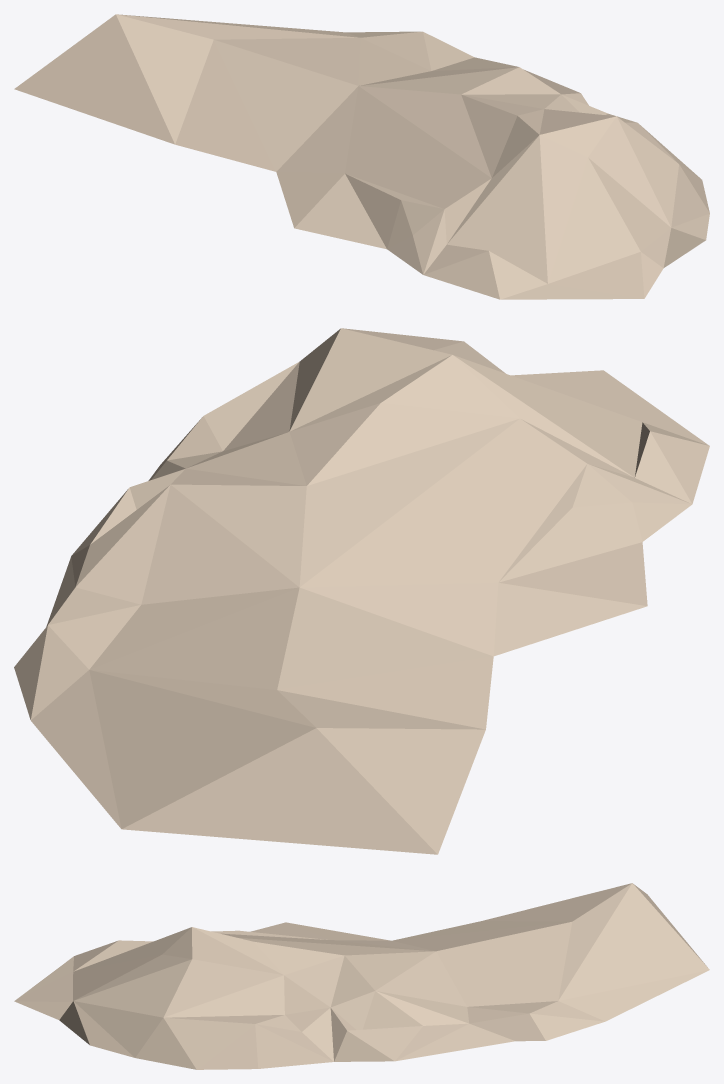
The model's file is Terrain_SandHill_013.fbx.
The picture shows the model from 3 angles, top to bottom: view 1: azimuth 30°, elevation 25°; view 2: azimuth 150°, elevation 25°; view 3: azimuth 270°, elevation 25°; orthographic projection. The views are drawn at different scales.
Parts seen in each view (by area): view 1: Terrain_sandHill_013; view 2: Terrain_sandHill_013; view 3: Terrain_sandHill_013.
Part boxes in pixels (x1,y1,x2,y2): Terrain_sandHill_013: [14, 14, 709, 299]; Terrain_sandHill_013: [14, 328, 709, 854]; Terrain_sandHill_013: [14, 883, 709, 1069].
Bounding box in the file's own units: 12.43 × 2.45 × 20.82.
